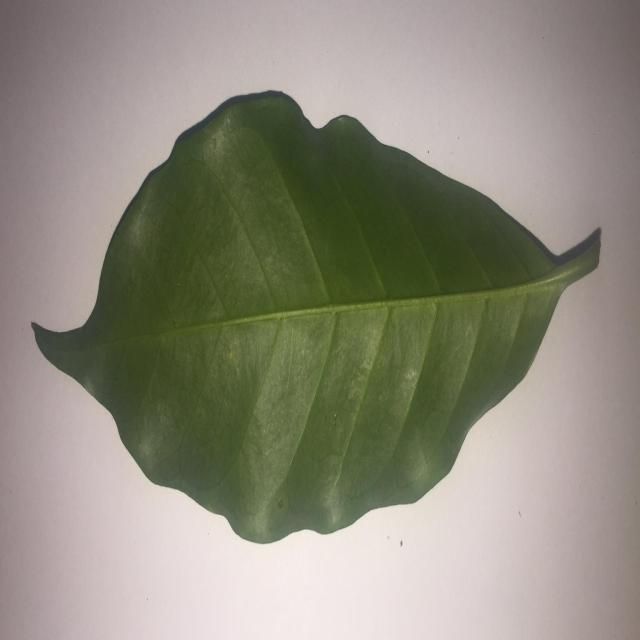Sanas: (31, 92, 603, 548)
